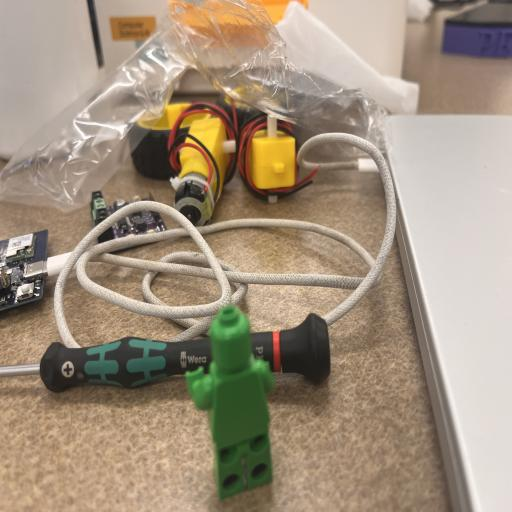Lego-Minifig: (186, 305, 274, 499)
